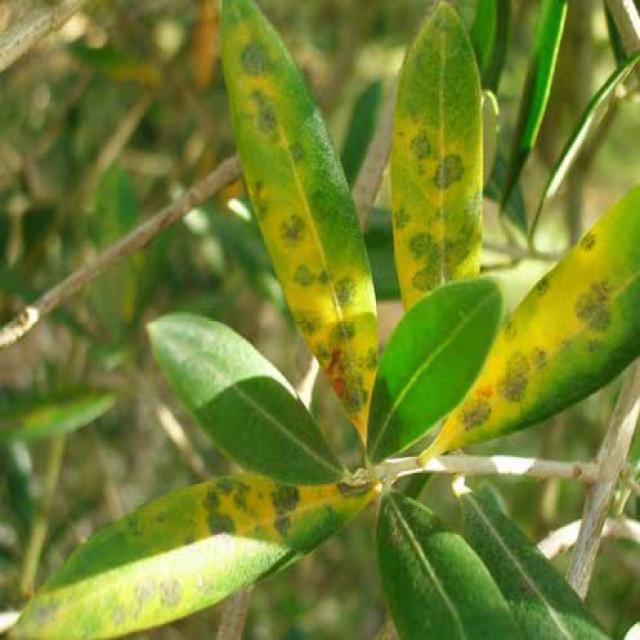Healthy: (151, 314, 340, 484), (368, 279, 501, 459)
Peacock Eye: (221, 0, 377, 443), (21, 473, 377, 638), (424, 185, 639, 454), (391, 3, 480, 309)
